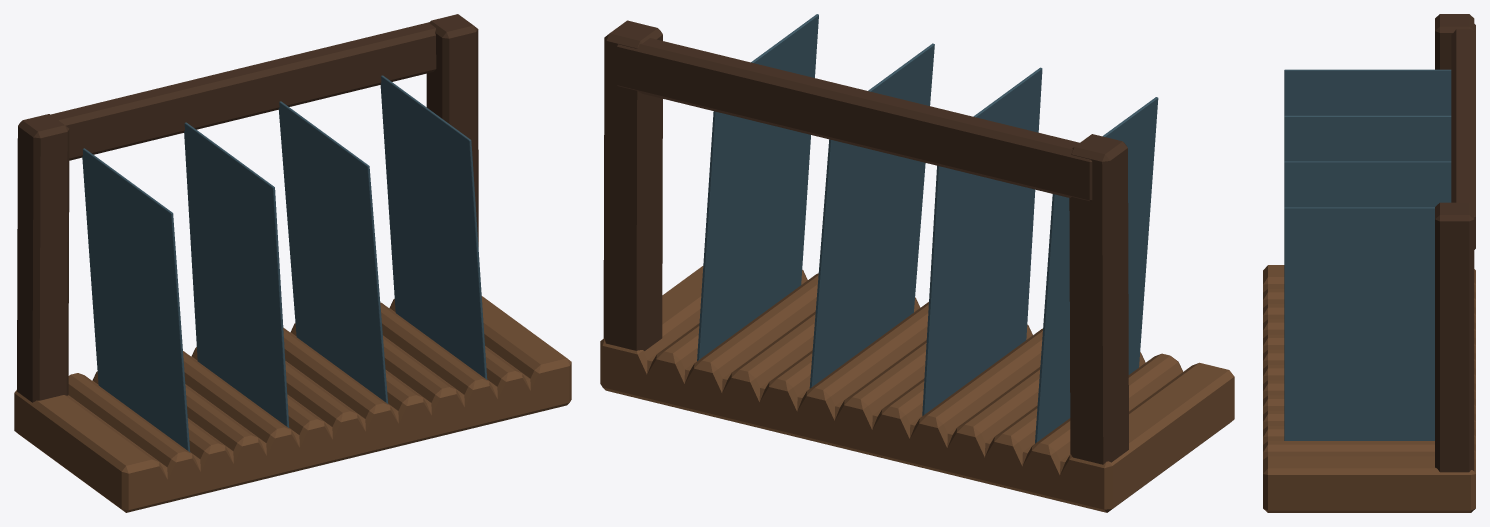
File: plate_rack.glb
3 renders of one model, left to right at view 1: azimuth 30°, elevation 25°; view 2: azimuth 150°, elevation 25°; view 3: azimuth 270°, elevation 25°, orthographic. The views are drawn at different scales.
Visible parts, largest first — view 1: plate_rack; view 2: plate_rack; view 3: plate_rack.
Boxes of the visible parts, box(x1,y1,x2,y2) form: plate_rack: box(14, 14, 571, 512); plate_rack: box(600, 14, 1234, 512); plate_rack: box(1263, 14, 1475, 512).
Size of the model in its own units: 0.6 by 0.4001 by 0.26.
